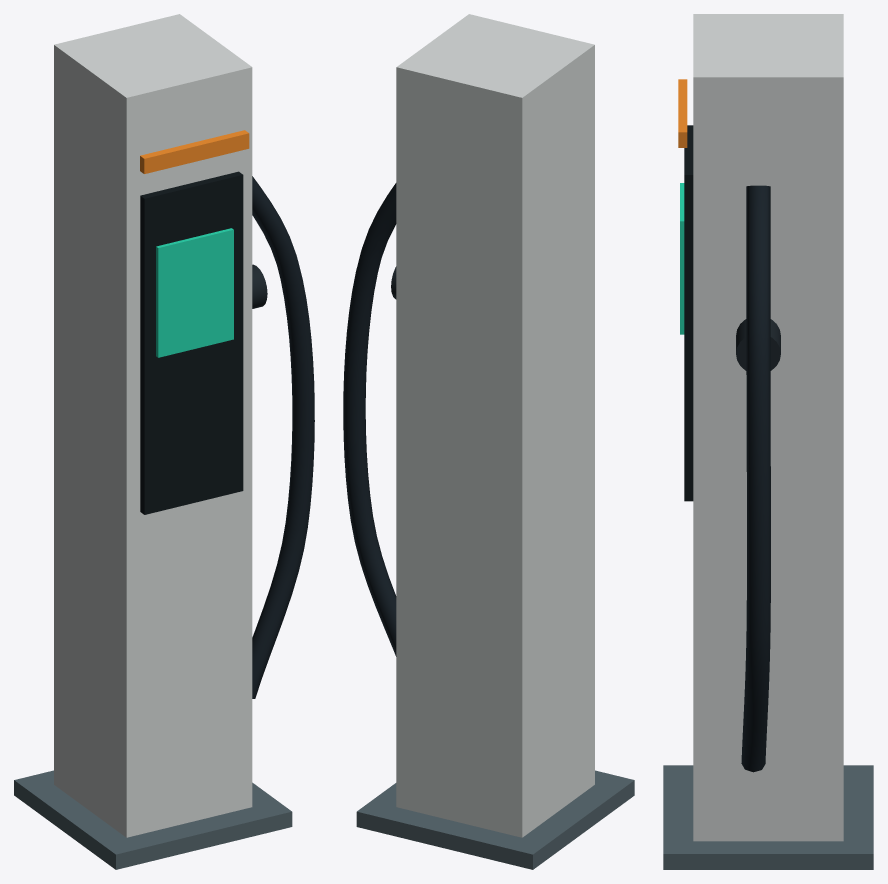
The model's file is kempower-satellite-v2.glb.
The picture shows the model from 3 angles, left to right: view 1: azimuth 30°, elevation 25°; view 2: azimuth 150°, elevation 25°; view 3: azimuth 270°, elevation 25°; orthographic projection. The views are drawn at different scales.
Parts seen in each view (by area): view 1: Main enclosure, Dark front fascia, CCS charging cable, Installation flange, Touch display, Status band; view 2: Main enclosure, CCS charging cable, Installation flange; view 3: Main enclosure, CCS charging cable, Installation flange, Dark front fascia, Connector holster, Touch display, Status band.
Boxes of the visible parts, bbox=[...] form: Main enclosure: bbox=[54, 14, 252, 837]; Dark front fascia: bbox=[140, 171, 243, 514]; CCS charging cable: bbox=[252, 176, 314, 698]; Installation flange: bbox=[14, 770, 292, 869]; Touch display: bbox=[156, 228, 233, 357]; Status band: bbox=[140, 130, 249, 173]; Main enclosure: bbox=[396, 14, 594, 837]; CCS charging cable: bbox=[343, 183, 396, 656]; Installation flange: bbox=[356, 770, 634, 869]; Main enclosure: bbox=[693, 14, 843, 841]; CCS charging cable: bbox=[741, 185, 770, 772]; Installation flange: bbox=[663, 765, 873, 869]; Dark front fascia: bbox=[684, 125, 693, 501]; Connector holster: bbox=[736, 319, 780, 370]; Touch display: bbox=[680, 183, 684, 334]; Status band: bbox=[678, 79, 687, 147].
Bounding box in the file's own units: 0.5814 × 1.72 × 0.42.
